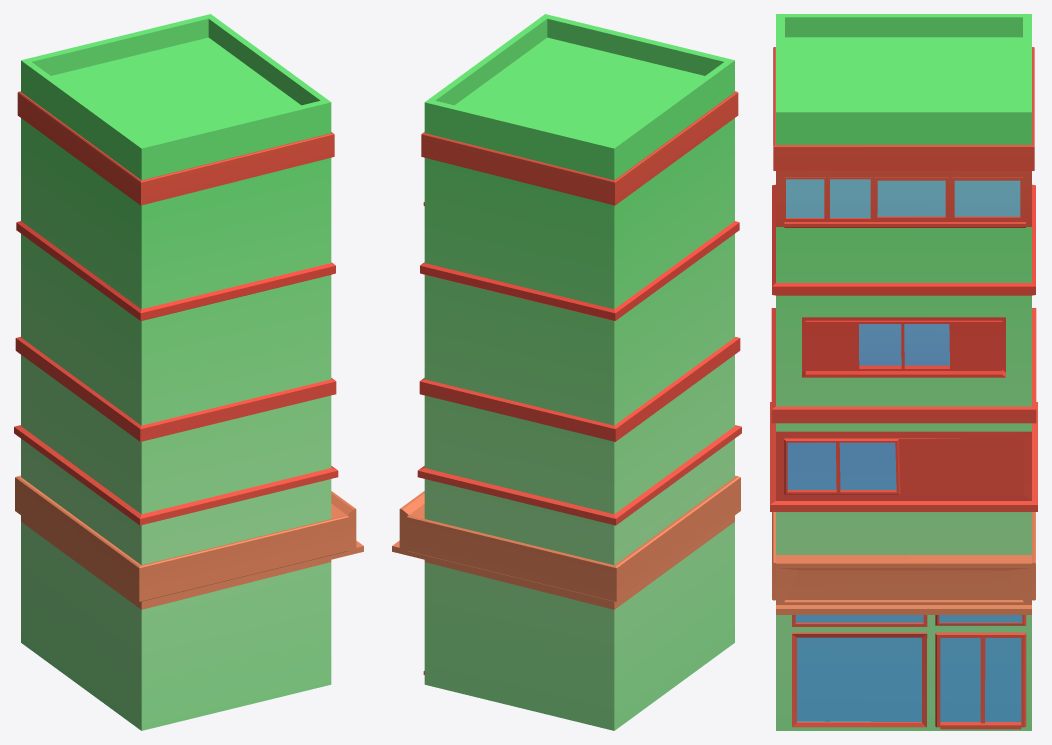
The model's file is Shop house buildings2.fbx.
3 views of the same model, side by side, from view 1: azimuth 30°, elevation 25°; view 2: azimuth 150°, elevation 25°; view 3: azimuth 270°, elevation 25° (orthographic). The views are drawn at different scales.
Visible parts, largest first — view 1: 1, 2, 4, 3, 5; view 2: 1, 2, 4, 3, 5; view 3: 1, 2, 4, 5, 3.
Part boxes in pixels (left/top/right/bottom): 1: left=15, top=475, right=363, bottom=730; 2: left=14, top=337, right=355, bottom=565; 4: left=17, top=91, right=334, bottom=309; 3: left=16, top=221, right=335, bottom=425; 5: left=21, top=14, right=331, bottom=180; 1: left=392, top=475, right=740, bottom=730; 2: left=400, top=337, right=741, bottom=565; 4: left=421, top=91, right=738, bottom=309; 3: left=420, top=221, right=739, bottom=425; 5: left=424, top=14, right=734, bottom=180; 1: left=772, top=512, right=1035, bottom=730; 2: left=770, top=308, right=1037, bottom=563; 4: left=773, top=47, right=1034, bottom=282; 5: left=776, top=14, right=1031, bottom=144; 3: left=772, top=184, right=1035, bottom=406.
Bounding box in the file's own units: 1801 × 4422 × 1735.
4 materials, 4 textured.
